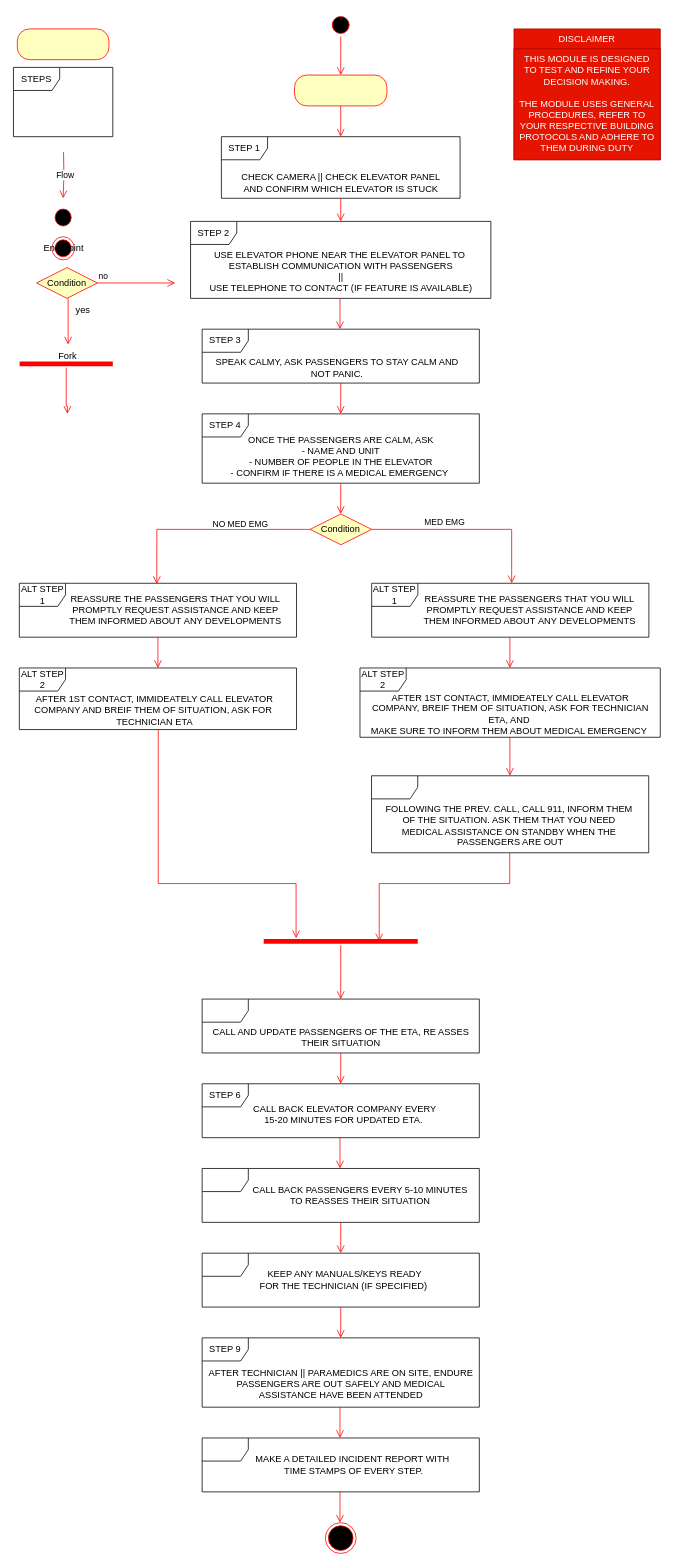
This 674x1567 diagram has some shape labels left out. Here are the shapes that lost their labels. From the top down, the centre of each, then its label:
At point 63,44: "Situation Context".
At point 340,90: "ELEVATOR ENTRAPMENT".
At point 62,217: "Start Point".
At point 510,814: "ALT STEP 3".
At point 340,1025: "STEP 5".
At point 340,1195: "STEP 7".
At point 340,1279: "STEP 8".
At point 340,1464: "STEP 10".
